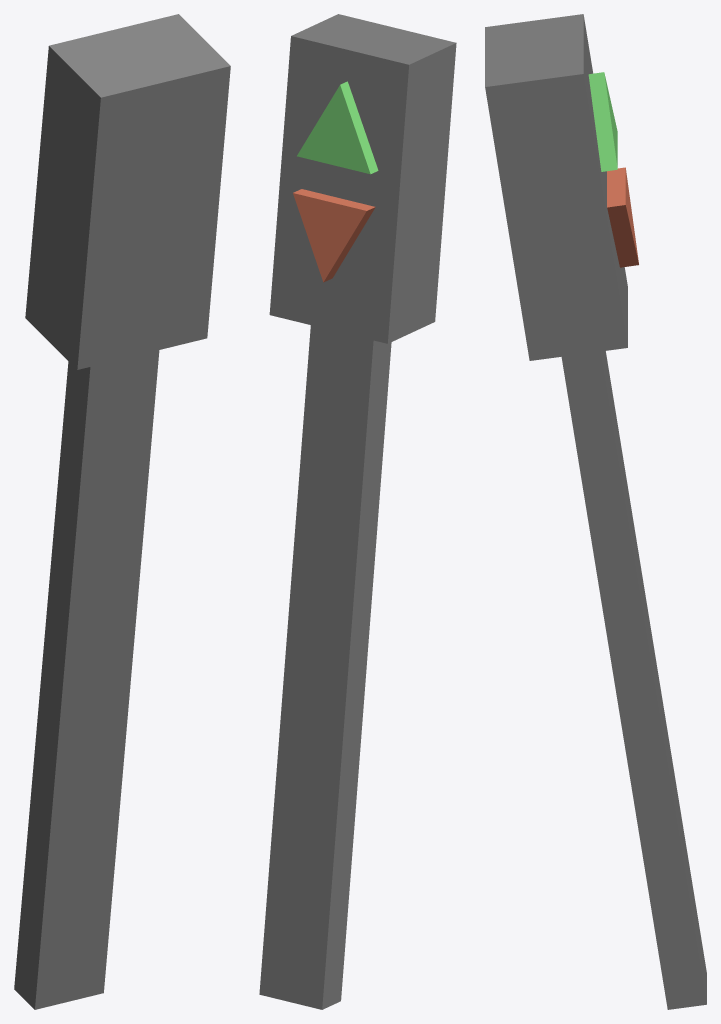
File: Buttons.glb
3 renders of one model, left to right at view 1: azimuth 30°, elevation 25°; view 2: azimuth 150°, elevation 25°; view 3: azimuth 270°, elevation 25°, orthographic. The views are drawn at different scales.
Visible parts, largest first — view 1: ControllerStand, ButtonStand; view 2: ButtonStand, ControllerStand, DownButton, UpButton; view 3: ControllerStand, ButtonStand, DownButton, UpButton.
Boxes of the visible parts, x1,y1,x2,y2 form: ControllerStand: (25,14,230,369); ButtonStand: (14,350,159,1009); ButtonStand: (259,325,391,1009); ControllerStand: (269,14,456,343); DownButton: (293,189,375,282); UpButton: (297,81,378,174); ControllerStand: (485,14,627,360); ButtonStand: (561,351,706,1009); DownButton: (607,167,638,267); UpButton: (588,72,617,171).
Bounding box in the file's own units: 0.14 × 1.03 × 0.2188.
